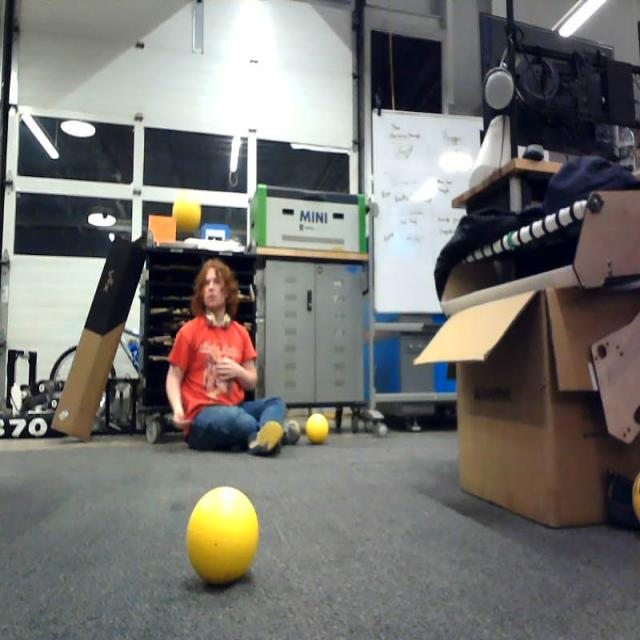Fuel: (187, 486, 258, 586), (173, 196, 200, 233), (306, 413, 328, 445)
